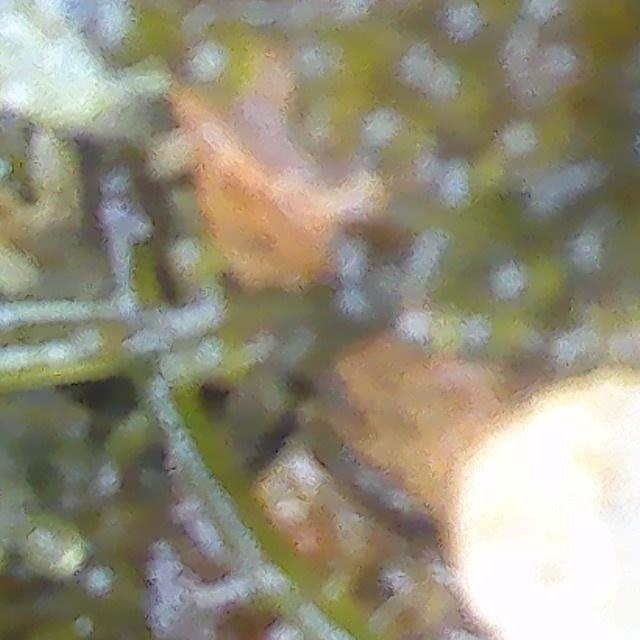SeaGrape: (571, 215, 638, 280), (429, 5, 506, 54), (96, 0, 159, 57)
